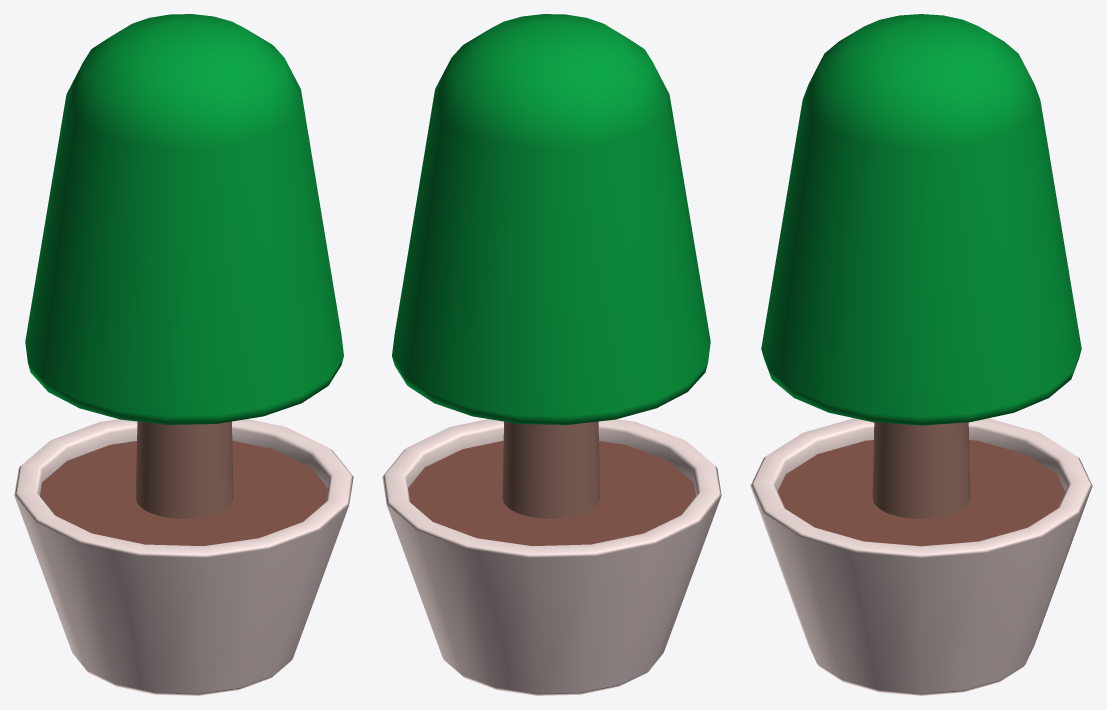
Rendered from City_8_Plant_6.glb.
3 renders of one model, left to right at view 1: azimuth 30°, elevation 25°; view 2: azimuth 150°, elevation 25°; view 3: azimuth 270°, elevation 25°, orthographic.
Visible parts, largest first — view 1: City_8_Plant_6; view 2: City_8_Plant_6; view 3: City_8_Plant_6.
Part boxes in pixels (<box>): City_8_Plant_6: <box>14,14,353,695</box>; City_8_Plant_6: <box>382,14,721,695</box>; City_8_Plant_6: <box>750,14,1092,695</box>.
Size of the model in its own units: 0.5608 by 1.11 by 0.5608.
Materials: 1 (1 with a texture image).
